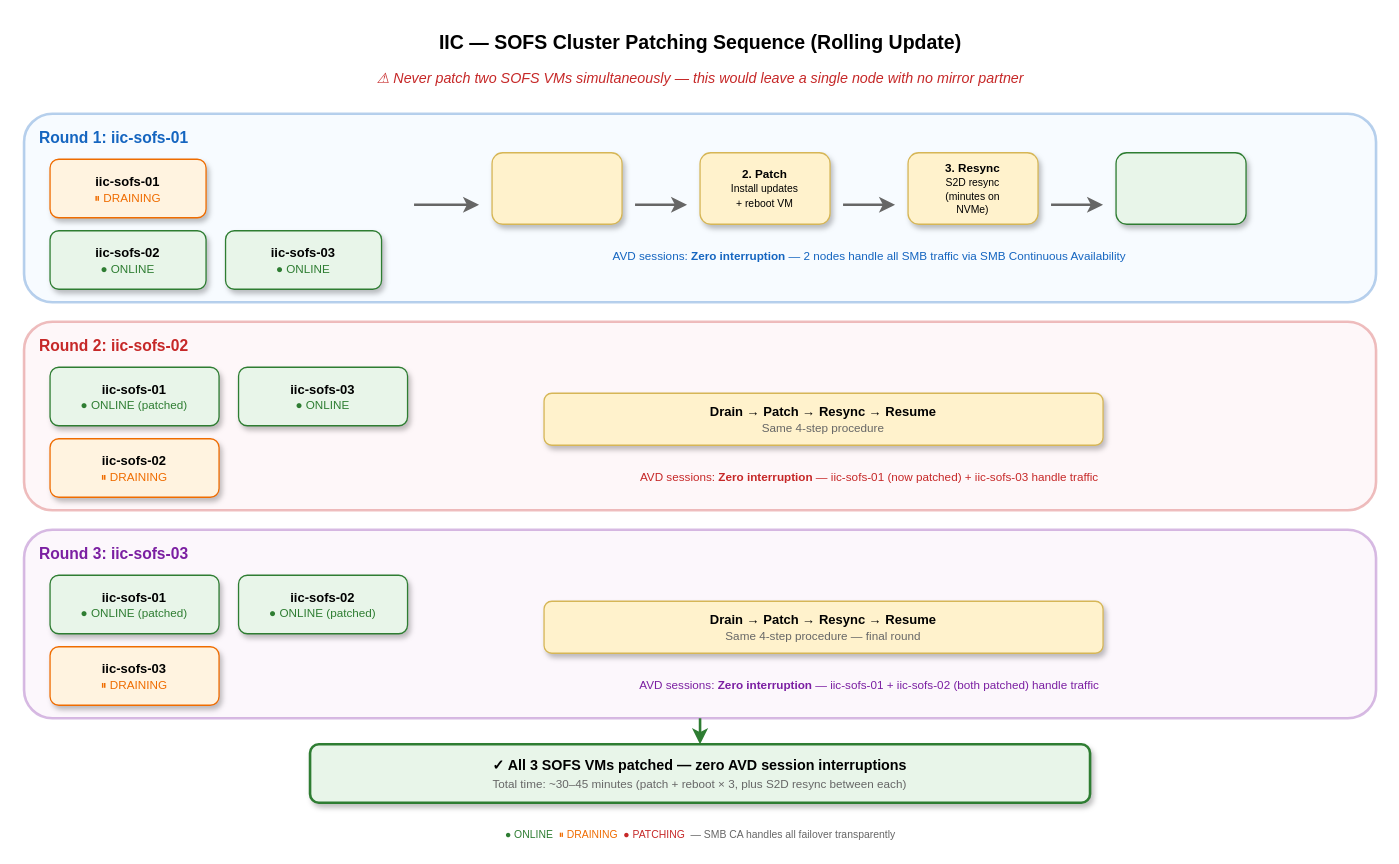
The diagram is 1399 pixels wide and 864 high, and some of its shapes have lost their labels. The shapes that lost their labels are listed below. From the top down, each one's centre as x and y in pixels, then its label:
At pixel 558 189: "1. Drain Suspend- ClusterNode -Drain".
At pixel 1182 189: "4. Resume Resume- ClusterNode".
